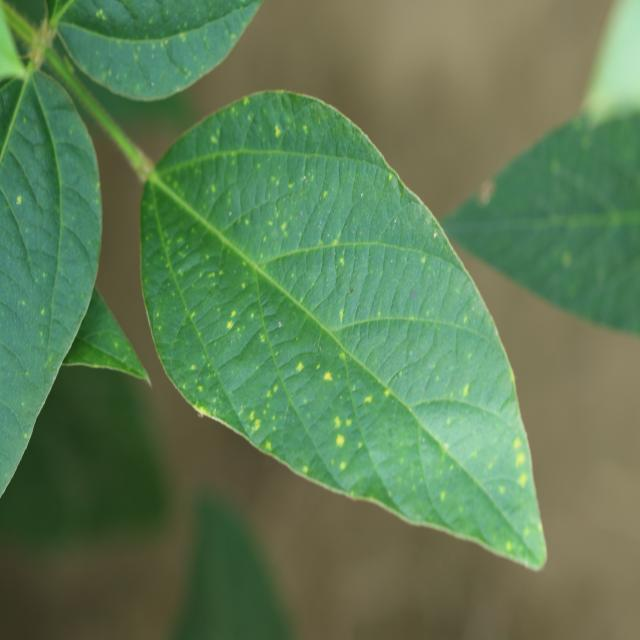Soybean: (64, 90, 548, 574)
downey_mildew: (533, 212, 640, 323), (406, 412, 511, 520), (244, 162, 335, 270), (205, 284, 293, 391), (471, 448, 548, 562), (304, 362, 377, 474), (544, 161, 617, 217), (2, 413, 36, 504), (576, 206, 640, 230), (195, 362, 220, 401), (479, 180, 494, 205), (224, 311, 241, 333), (194, 403, 211, 419), (561, 252, 572, 268), (201, 33, 211, 50), (550, 159, 560, 174), (64, 56, 73, 72), (513, 437, 522, 450), (462, 383, 470, 397), (96, 10, 106, 21), (397, 185, 405, 198), (274, 124, 281, 137), (364, 395, 372, 404), (410, 289, 418, 298), (210, 134, 217, 144), (205, 363, 212, 373), (440, 491, 446, 502), (280, 222, 287, 231), (265, 441, 272, 450), (16, 195, 22, 205), (226, 321, 233, 329), (180, 34, 186, 43), (384, 390, 390, 398), (339, 353, 345, 361), (420, 256, 426, 264), (322, 190, 328, 198), (302, 465, 308, 473), (210, 185, 216, 193), (243, 98, 249, 106), (388, 172, 393, 181), (302, 124, 307, 133), (463, 315, 468, 324), (197, 385, 203, 392), (231, 310, 236, 318), (191, 312, 196, 319), (40, 308, 45, 315), (241, 282, 246, 289), (231, 33, 236, 40), (182, 382, 187, 389), (178, 269, 183, 276), (444, 442, 449, 449), (164, 39, 169, 46), (433, 232, 438, 239), (421, 436, 426, 443), (190, 365, 196, 370), (288, 183, 293, 189), (21, 300, 26, 306), (244, 219, 249, 225), (155, 312, 160, 318), (377, 310, 381, 317), (114, 341, 118, 348), (25, 370, 29, 377), (394, 375, 398, 382), (404, 369, 408, 376), (278, 321, 282, 328), (250, 313, 254, 319), (24, 433, 28, 439), (21, 401, 25, 407), (228, 210, 232, 216), (393, 218, 397, 224), (303, 174, 307, 180), (151, 81, 155, 87), (378, 380, 382, 386), (151, 53, 155, 59), (340, 395, 343, 401), (360, 192, 363, 198), (391, 258, 394, 264), (240, 404, 243, 409), (11, 409, 14, 413)
